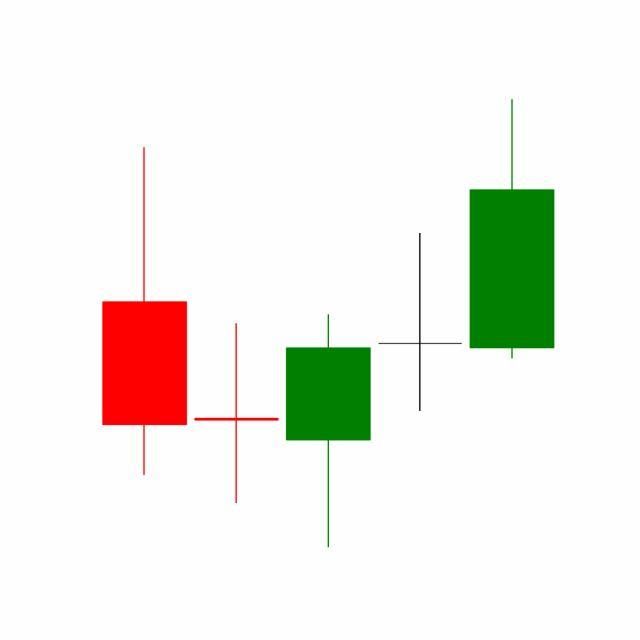Three Outside Up-Down: (190, 229, 467, 548)
